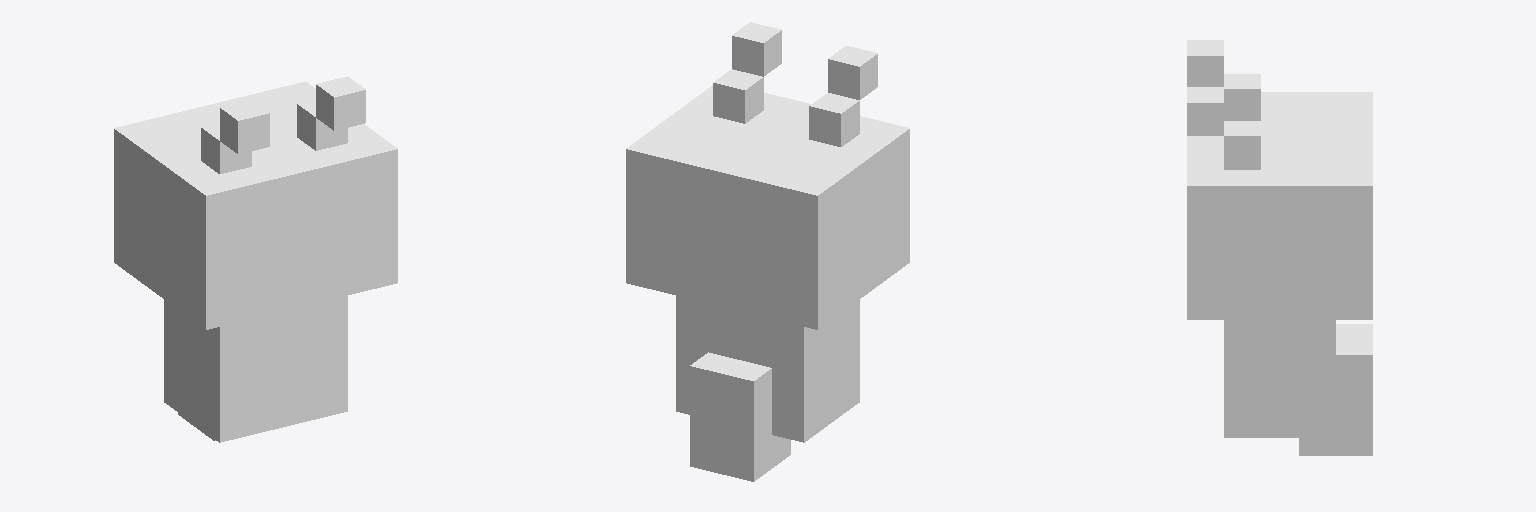
Rendered from Player_Spider_Body.obj.
3 views of the same model, side by side, from view 1: azimuth 30°, elevation 25°; view 2: azimuth 150°, elevation 25°; view 3: azimuth 270°, elevation 25° (orthographic).
Visible parts, largest first — view 1: object 1; view 2: object 1; view 3: object 1.
Part boxes in pixels (x1,y1,x2,y2): object 1: (114,76,397,442); object 1: (626,22,909,481); object 1: (1187,40,1372,455).
Size of the model in its own units: 0.6 by 1.1 by 0.5.